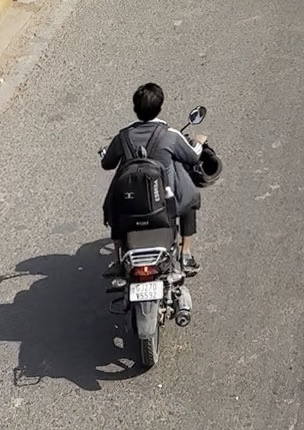BikeWithRider: (86, 82, 222, 368)
NoHelmet: (129, 82, 167, 126)
